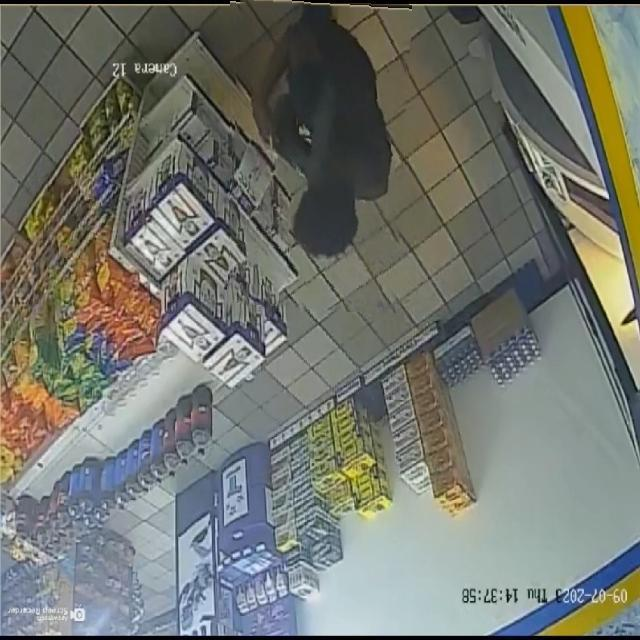normal: (230, 0, 408, 312)
